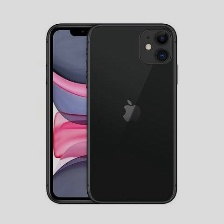phone: (84, 20, 182, 205), (42, 19, 130, 204)
